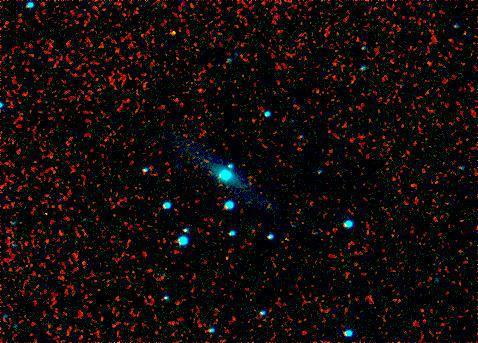star: (157, 18, 187, 48)
